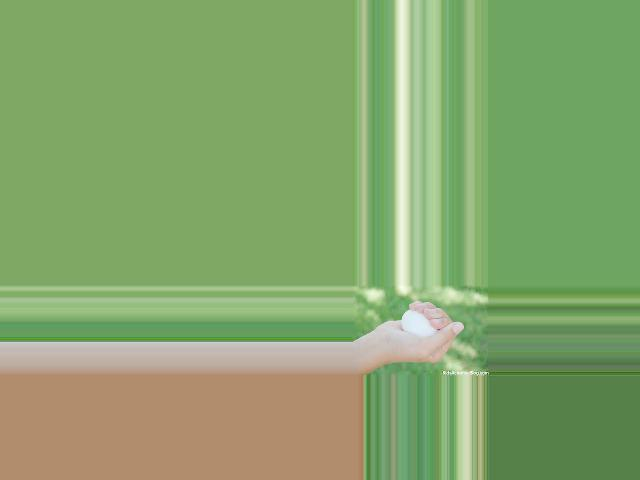egg: (402, 309, 438, 337)
